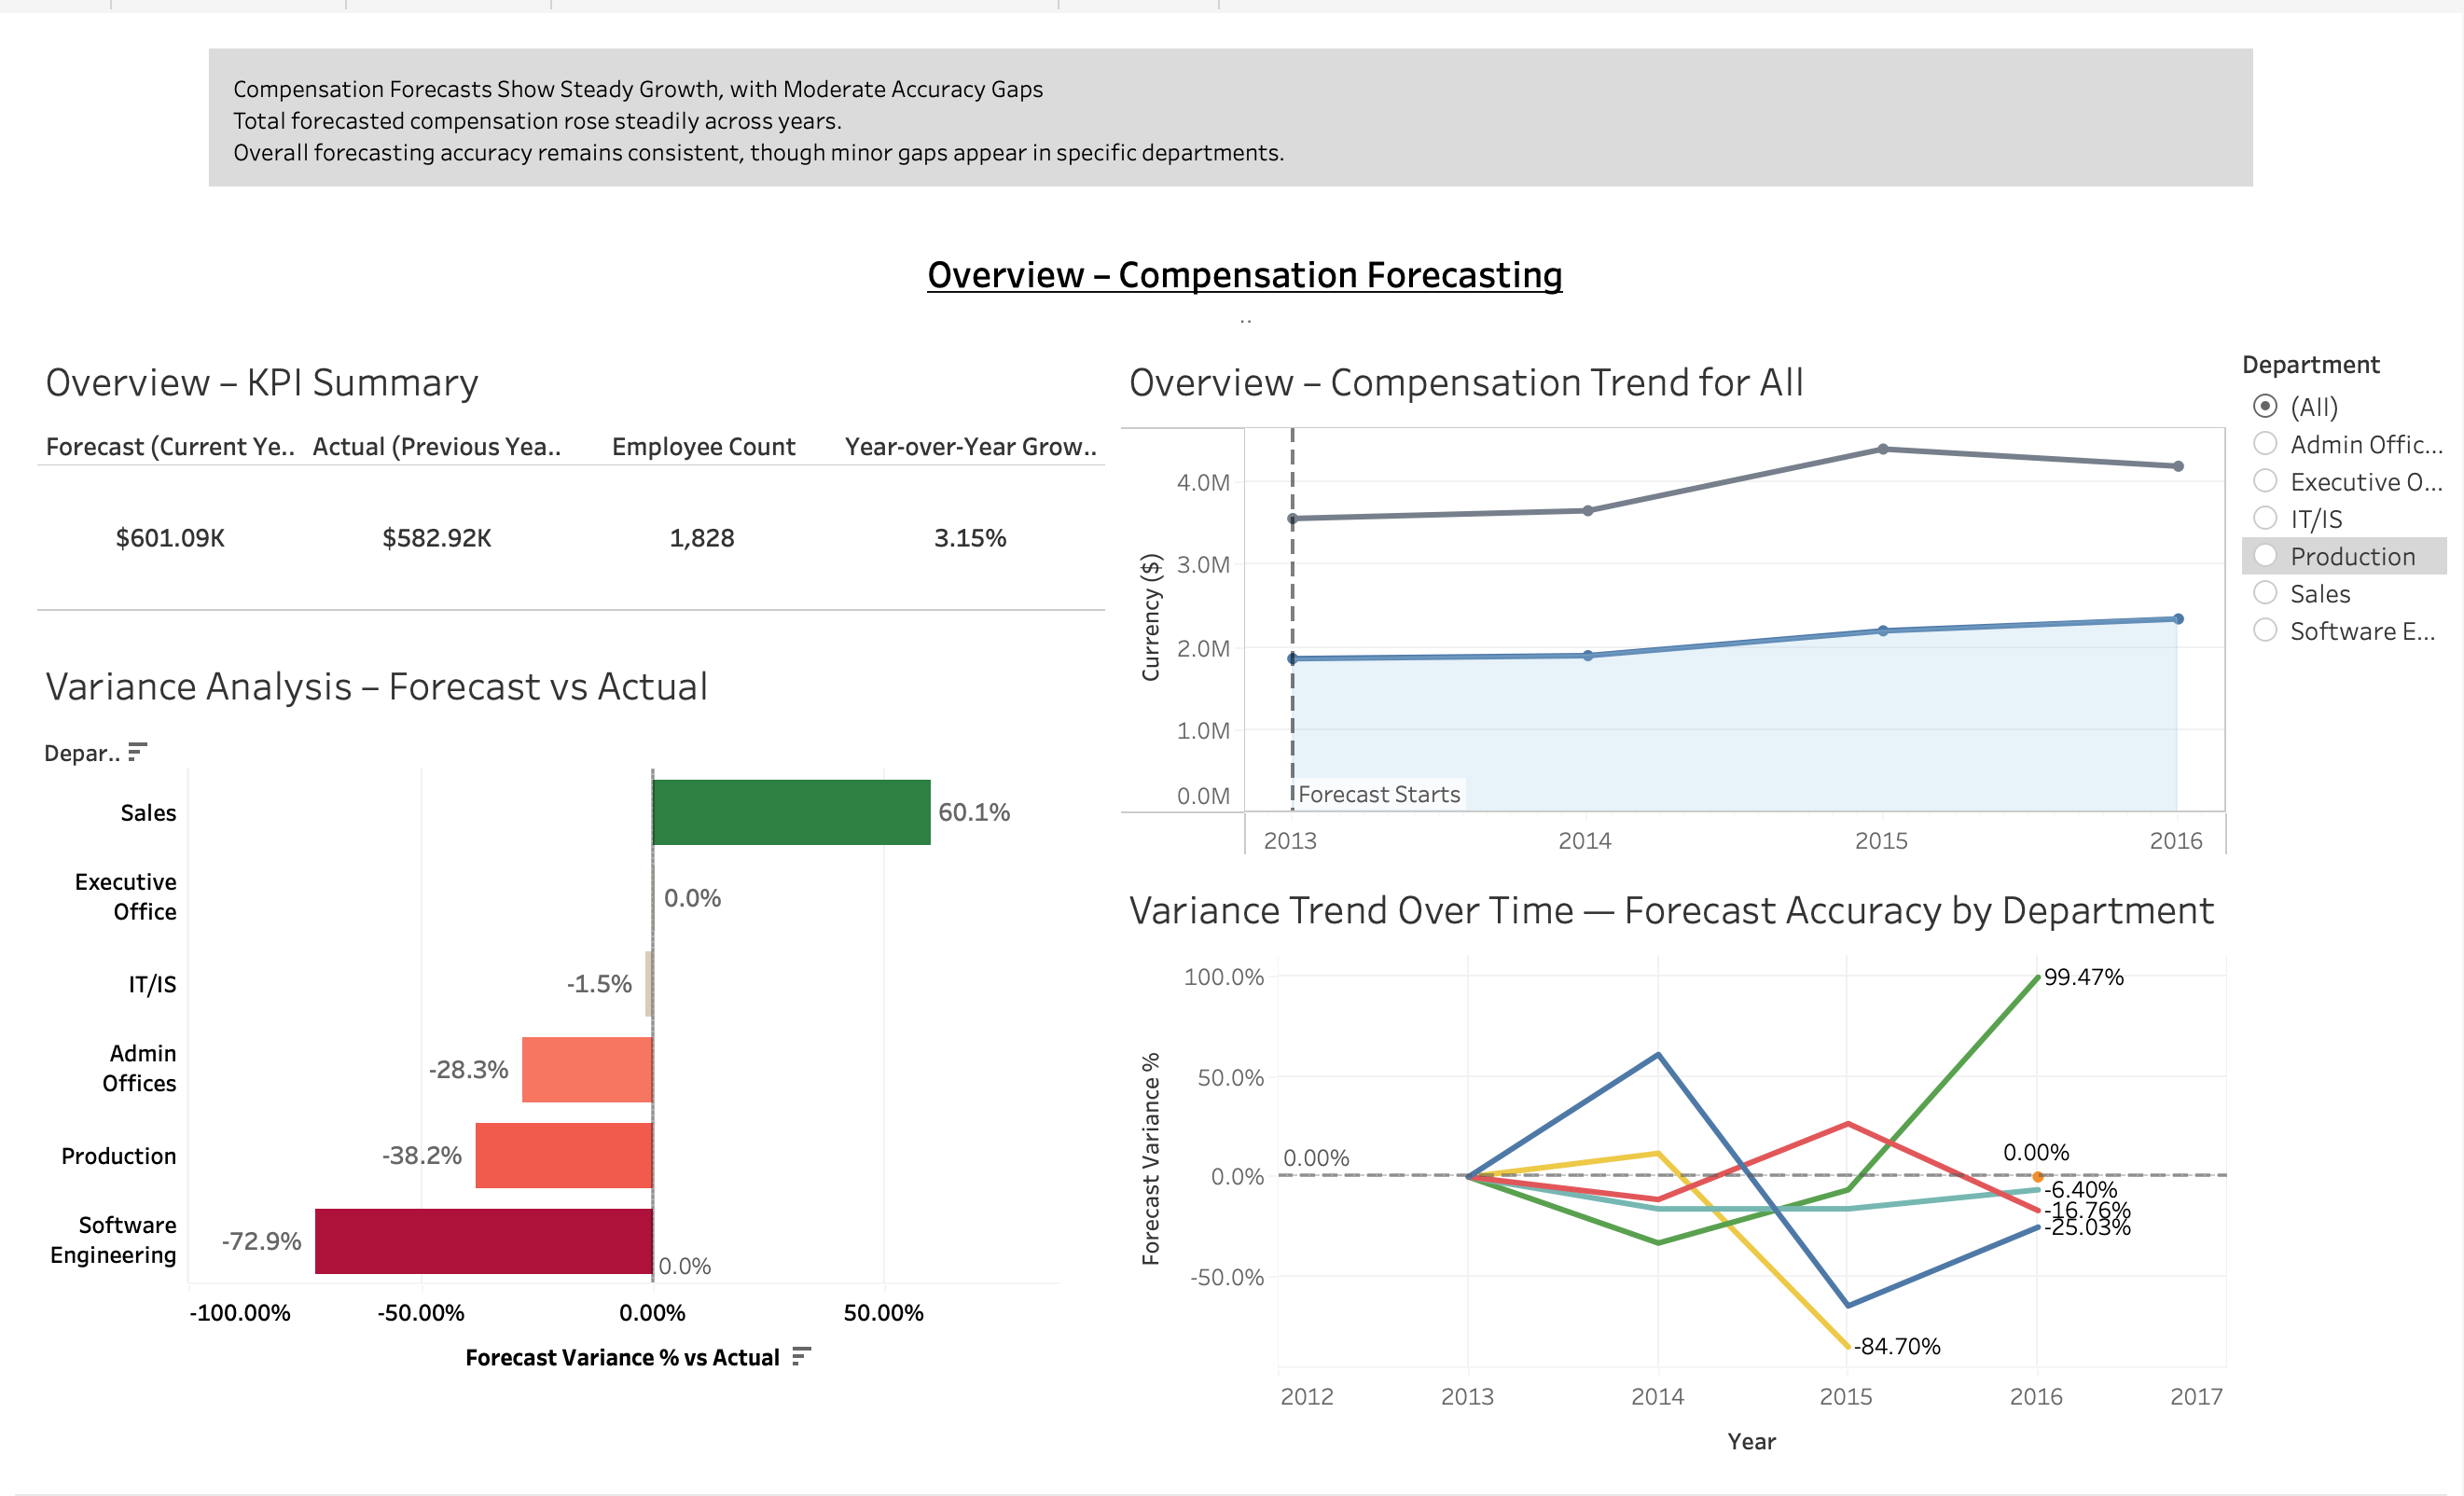

This screenshot's page, from the dashboard's own definition file:
{"tool":"tableau","page":{"name":"Overview – Compensation Forecast Dashboard","canvas":[1320,680],"ordinal":0},"visuals":[{"type":"text","box":[8,8,1304,54.4]},{"type":"worksheet","title":"Overview – KPI Summary","mark":"Automatic","box":[8,62.4,581,162.9]},{"type":"worksheet","title":"Overview – Compensation Trend","mark":"Line","rows":["Calculation_5837439239814393858"],"cols":["ds"],"box":[589,62.4,601,282.3]},{"type":"filter","title":"Overview – KPI Summary","param":"[federated.1yo14hn0ochc321azy1dw0enk9dp].[none:department:nk]","box":[1190,62.4,122,173]},{"type":"worksheet","title":"Variance Analysis – Forecast vs Actual","mark":"Automatic","rows":["department"],"cols":["Calculation_6214967552369418240"],"box":[8,225.3,581,446.7]},{"type":"worksheet","title":"Variance Trend Over Time","mark":"Line","rows":["Calculation_6214967552369418240"],"cols":["year"],"box":[589,344.7,601,327.3]}]}

Visuals, with their boxes on the page's 1320x680 design canvas (x1, y1, x2, y2). These are canvas units, not pixel positions in the 2464x1496 screenshot, which may show the page scaled, cropped or inside an application window:
text: crop(8, 8, 1312, 62)
"Overview – KPI Summary" worksheet: crop(8, 62, 589, 225)
"Overview – Compensation Trend" worksheet (Line marks): crop(589, 62, 1190, 345)
"Overview – KPI Summary" filter: crop(1190, 62, 1312, 235)
"Variance Analysis – Forecast vs Actual" worksheet: crop(8, 225, 589, 672)
"Variance Trend Over Time" worksheet (Line marks): crop(589, 345, 1190, 672)
